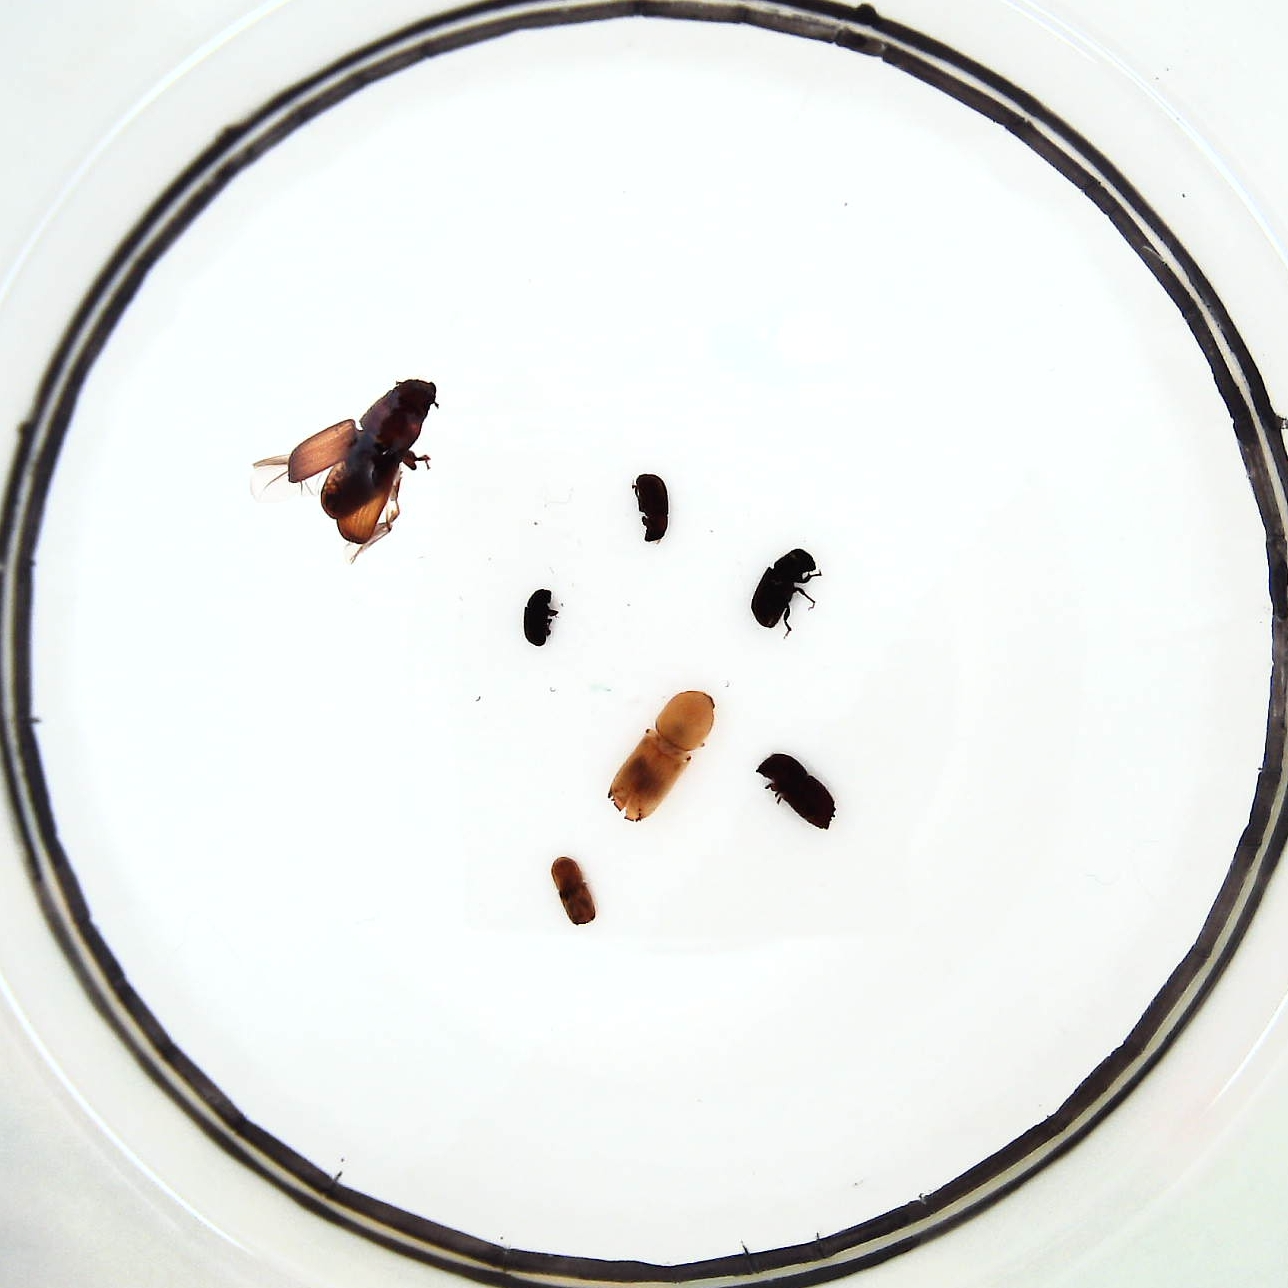Boerner: (602, 694, 717, 832)
Leconte: (283, 380, 436, 543)
Linnaeus: (756, 745, 839, 829)
acuminatus: (556, 846, 602, 933)
armandi: (753, 548, 819, 636)
coleoptera: (631, 464, 673, 548), (523, 581, 563, 653)
